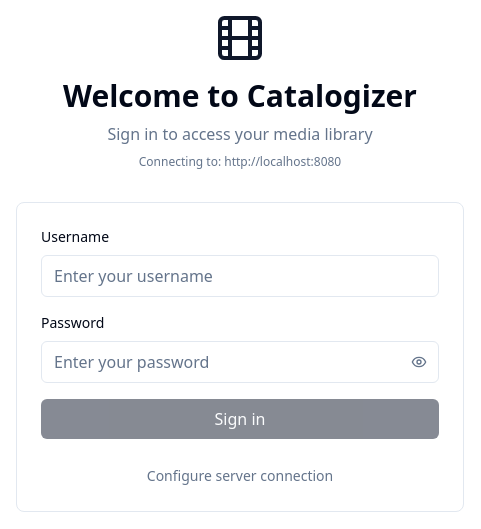
Scenario: LoginPage › enables submit button when both fields are filled
In the field labelled "Username": (240, 276) left=41, top=255, right=439, bottom=297, type "admin"
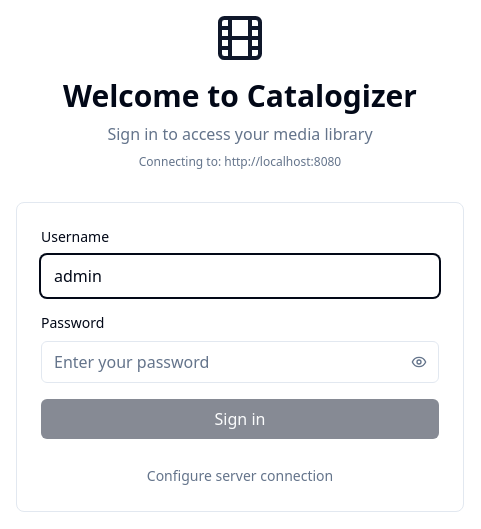
In the password field labelled "Password": (240, 362) left=41, top=341, right=439, bottom=383, type "password"
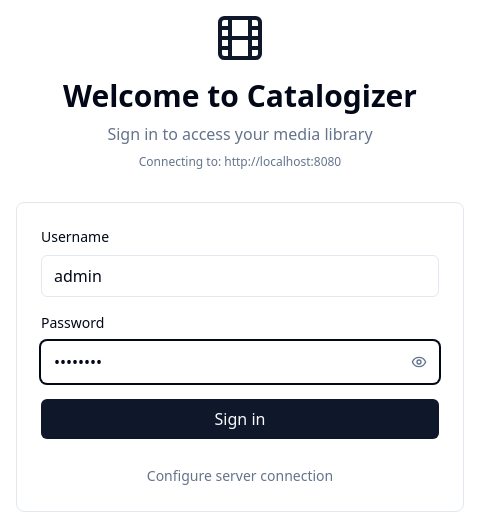
Now the button "Sign in" is enabled, box left=41, top=399, right=439, bottom=439
